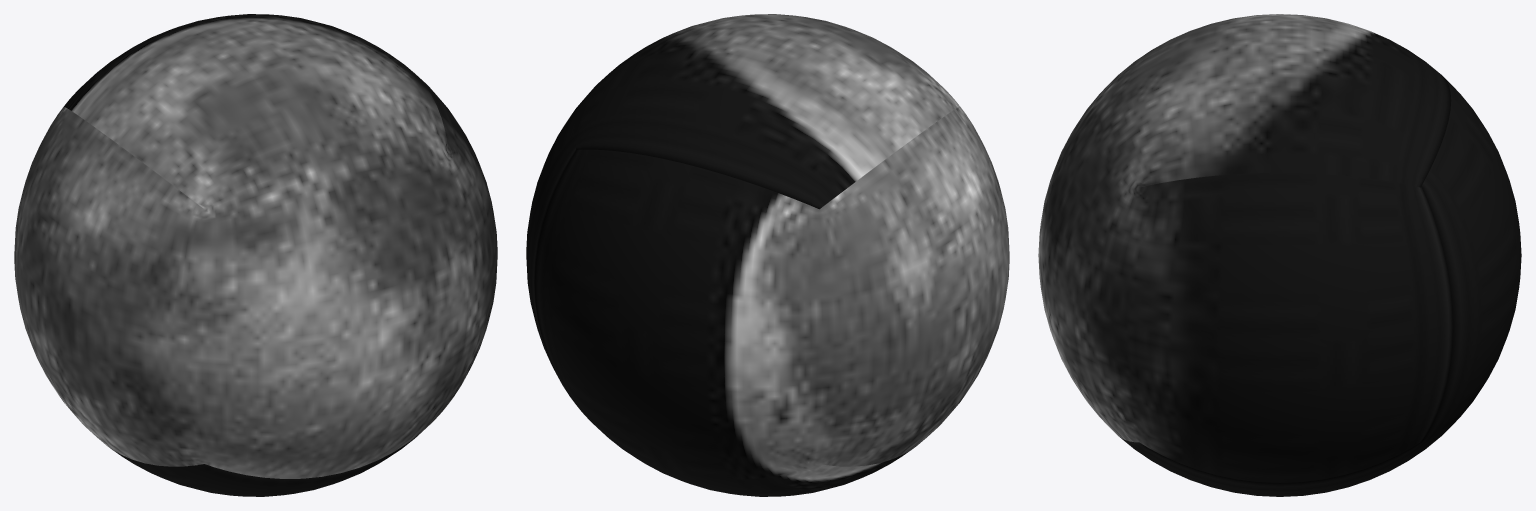
The model's file is Moon Obj.fbx.
3 views of the same model, side by side, from view 1: azimuth 30°, elevation 25°; view 2: azimuth 150°, elevation 25°; view 3: azimuth 270°, elevation 25° (orthographic).
Parts seen in each view (by area): view 1: Moon; view 2: Moon; view 3: Moon.
Boxes of the visible parts, left/top/right/bottom form: Moon: left=14, top=14, right=497, bottom=496; Moon: left=526, top=14, right=1009, bottom=496; Moon: left=1038, top=14, right=1521, bottom=496.
Bounding box in the file's own units: 300 × 300 × 300.
